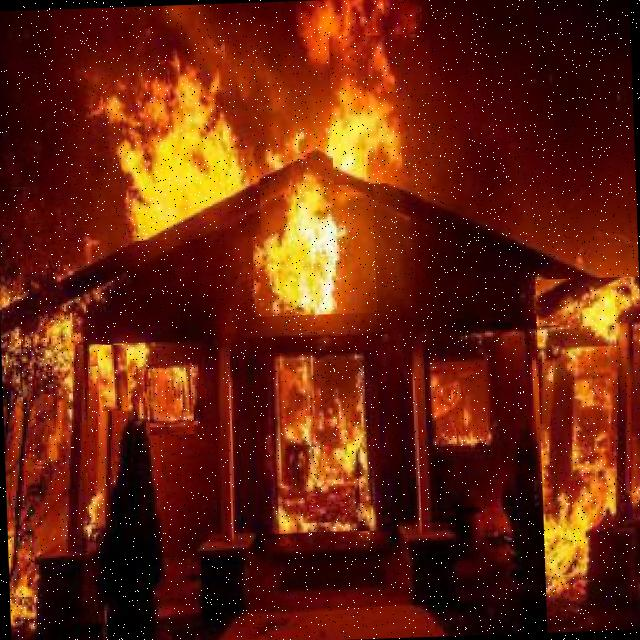fire: (535, 276, 640, 632), (102, 58, 261, 241), (258, 349, 382, 534), (250, 181, 376, 316), (328, 34, 433, 184), (148, 363, 194, 435), (97, 344, 128, 411)
